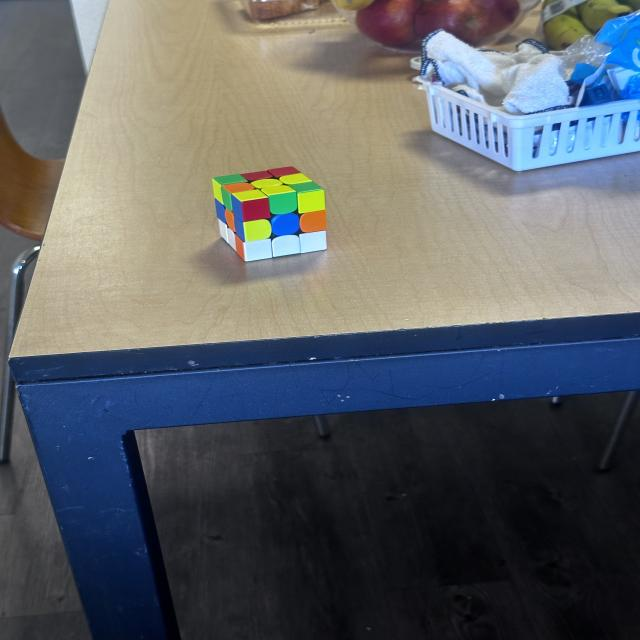sticker: (212, 174, 248, 208), (232, 192, 271, 223), (263, 186, 298, 216), (295, 185, 326, 215), (241, 236, 273, 262), (239, 218, 272, 243), (269, 212, 301, 236), (271, 234, 301, 257), (300, 209, 327, 234), (299, 229, 327, 253), (231, 188, 266, 206), (267, 166, 301, 179), (278, 172, 312, 185), (240, 170, 274, 183), (250, 178, 283, 190), (222, 182, 254, 194), (262, 184, 294, 196), (218, 219, 230, 244), (224, 208, 236, 232), (234, 235, 245, 261), (215, 199, 226, 224), (225, 227, 236, 251), (213, 187, 226, 207), (222, 193, 234, 213)
